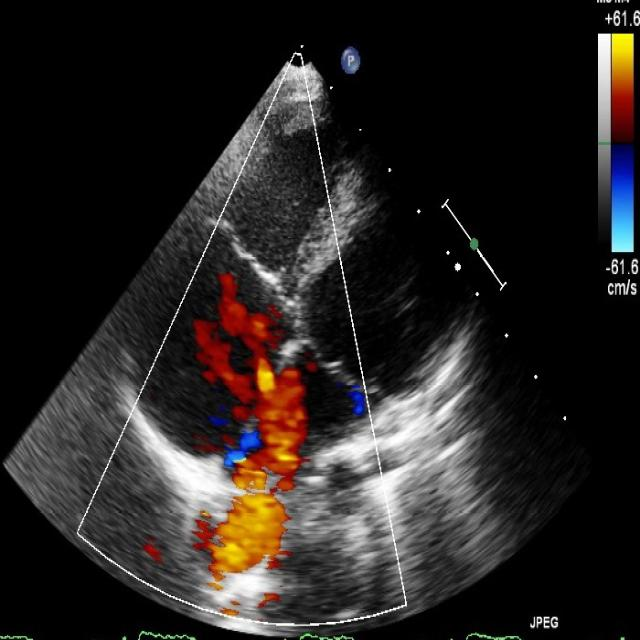ASDType2: (216, 336, 318, 493)
